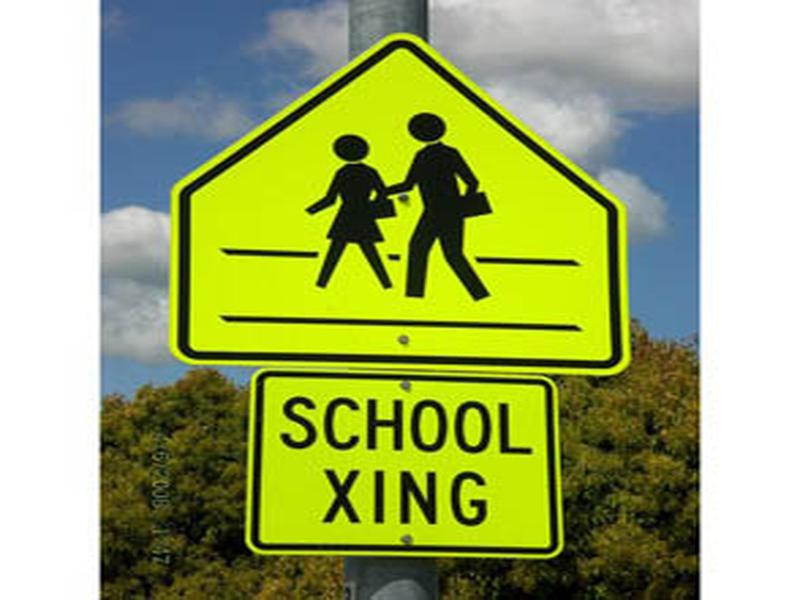slow: (168, 59, 630, 379)
